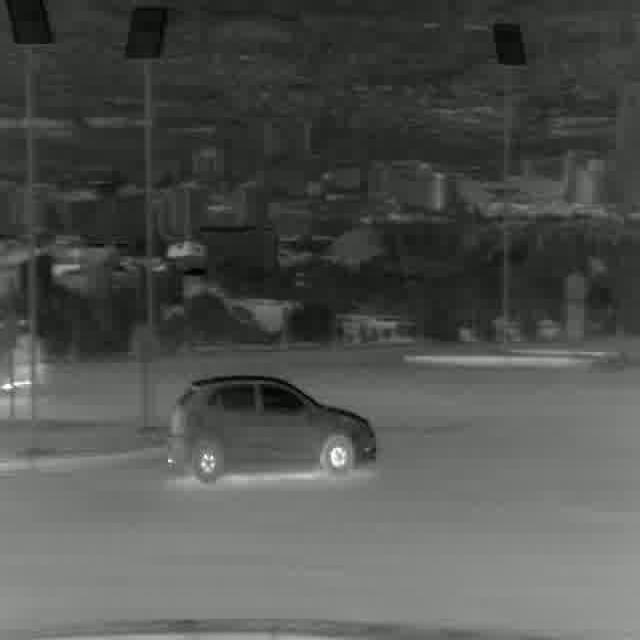Car: (168, 372, 376, 480), (0, 321, 42, 394)
